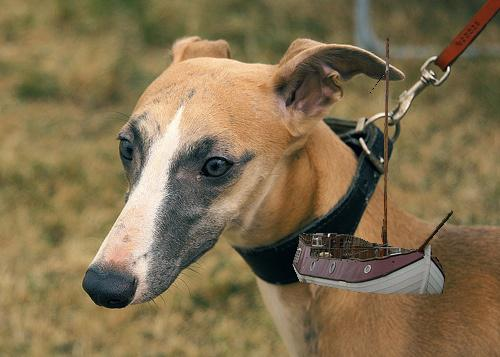tampered: (293, 36, 453, 294)
